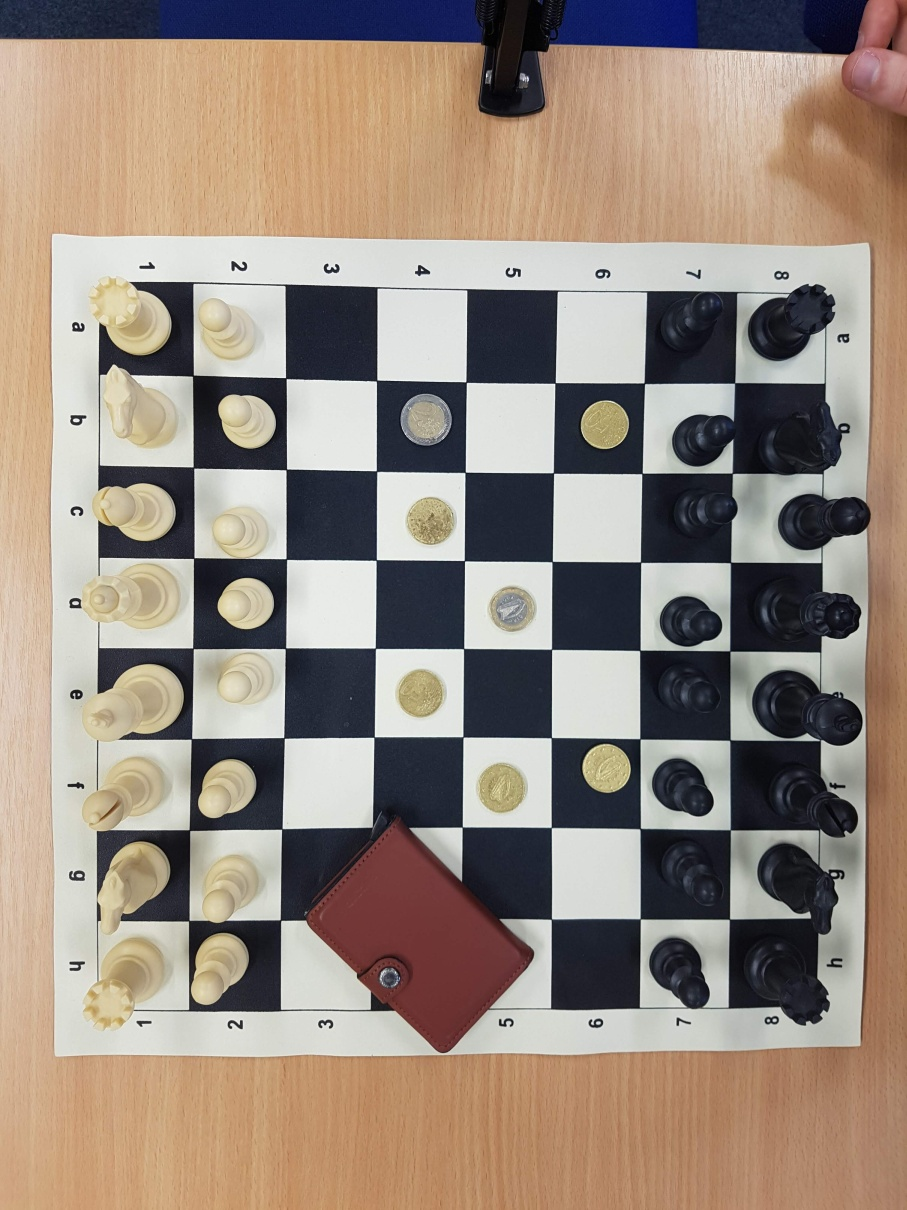chess_bishop: (81, 757, 164, 832), (770, 769, 858, 839), (777, 493, 871, 551), (93, 482, 177, 542)
chess_king: (753, 671, 863, 747), (81, 663, 184, 742)
chess_knight: (757, 842, 838, 935), (97, 842, 172, 934), (101, 365, 179, 449), (763, 403, 844, 474)
chess_pawn: (650, 937, 711, 1009), (191, 933, 250, 1007), (660, 839, 723, 908), (663, 292, 725, 358), (201, 855, 258, 924), (198, 298, 258, 360), (198, 758, 257, 818), (215, 392, 277, 448), (672, 485, 740, 535), (653, 759, 713, 815), (672, 413, 733, 468), (655, 662, 720, 713), (216, 575, 274, 630), (212, 506, 271, 559), (217, 651, 273, 706), (661, 597, 721, 647)
chess_queen: (756, 582, 862, 644), (82, 563, 179, 630)
chess_rook: (743, 939, 830, 1027), (85, 936, 165, 1029), (748, 284, 835, 361), (88, 276, 171, 356)
